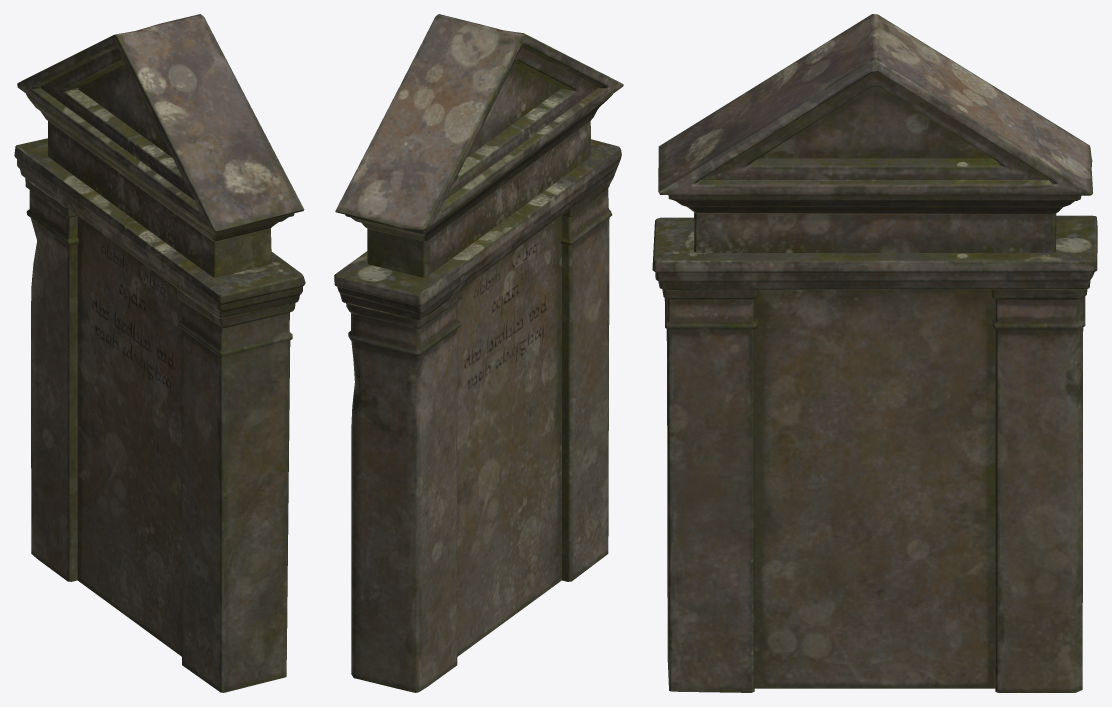
Rendered from SM_TombsA.fbx.
3 views of the same model, side by side, from view 1: azimuth 30°, elevation 25°; view 2: azimuth 150°, elevation 25°; view 3: azimuth 270°, elevation 25° (orthographic). The views are drawn at different scales.
Parts seen in each view (by area): view 1: SM_TombsA_LOD0; view 2: SM_TombsA_LOD0; view 3: SM_TombsA_LOD0.
Part boxes in pixels (x1=…): SM_TombsA_LOD0: x1=14, y1=14, x2=305, y2=692; SM_TombsA_LOD0: x1=334, y1=14, x2=623, y2=692; SM_TombsA_LOD0: x1=652, y1=14, x2=1097, y2=692.
Size of the model in its own units: 11.87 by 47.25 by 74.72.
1 material, 1 textured.
